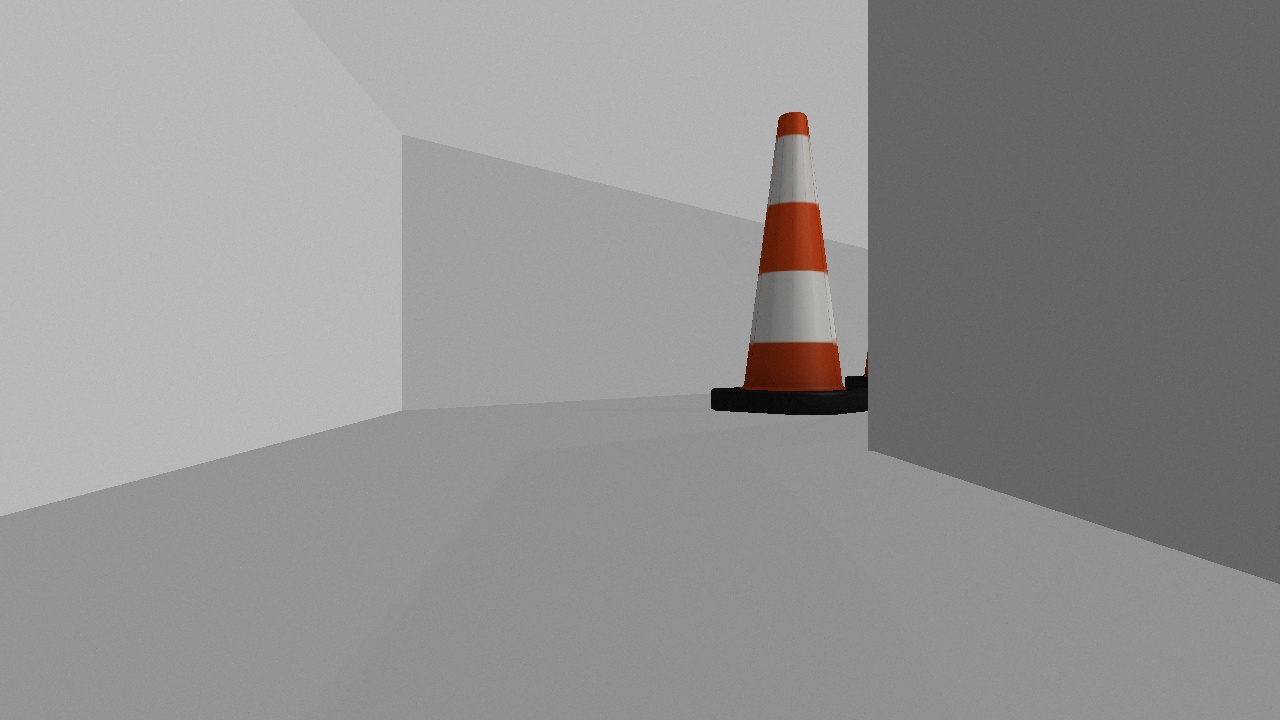barricade: (708, 111, 867, 414)
